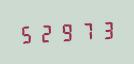five: (18, 22, 36, 45)
nine: (56, 20, 74, 43)
seven: (75, 19, 93, 42)
three: (94, 18, 112, 41)
two: (37, 21, 55, 44)
